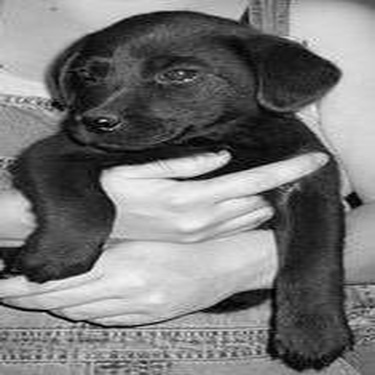dog: (2, 7, 357, 373)
